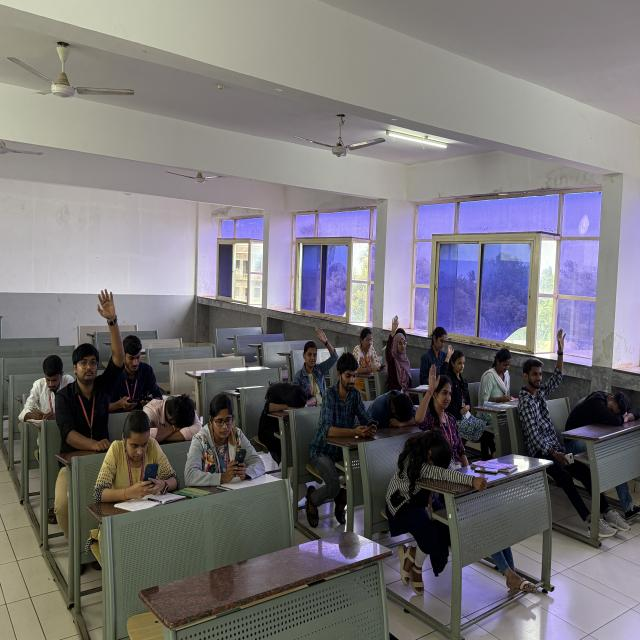Hand Rising: (55, 262, 133, 456), (509, 302, 583, 474), (431, 372, 477, 500), (298, 302, 340, 410), (382, 298, 421, 403)
Sleeping: (142, 360, 212, 453), (569, 377, 640, 462)
Using Phone: (85, 388, 184, 548), (184, 378, 273, 532), (313, 352, 375, 535)
Writing: (0, 341, 65, 454), (472, 326, 524, 412)
